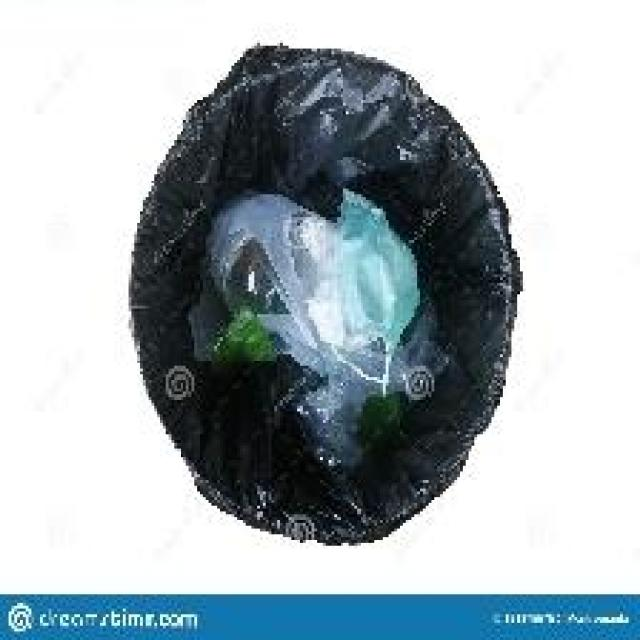Mask: (104, 62, 546, 568)
